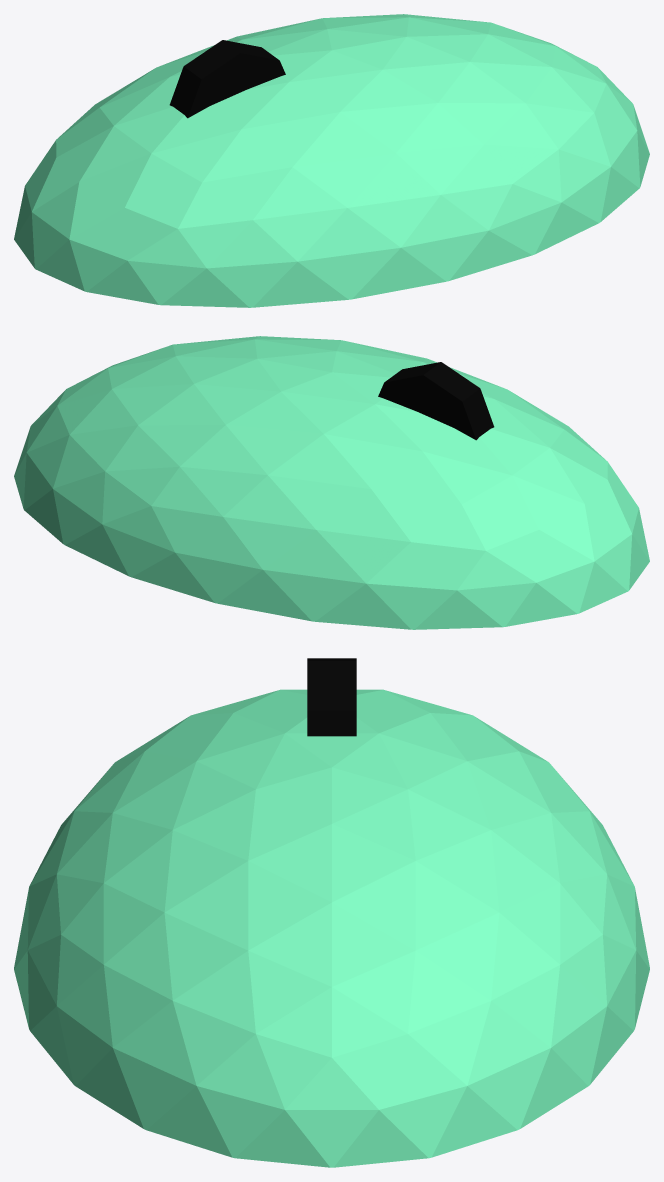
The model's file is Com_Mouse.obj.
3 views of the same model, one above another, from view 1: azimuth 30°, elevation 25°; view 2: azimuth 150°, elevation 25°; view 3: azimuth 270°, elevation 25° (orthographic). The views are drawn at different scales.
Parts seen in each view (by area): view 1: Com_mouse_Icosphere; view 2: Com_mouse_Icosphere; view 3: Com_mouse_Icosphere.
Boxes of the visible parts, bbox=[...] form: Com_mouse_Icosphere: bbox=[14, 14, 649, 307]; Com_mouse_Icosphere: bbox=[14, 336, 649, 629]; Com_mouse_Icosphere: bbox=[14, 658, 649, 1167].
Size of the model in its own units: 0.5566 by 0.1567 by 0.3758.
